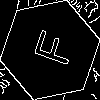F: (25, 25, 76, 69)
